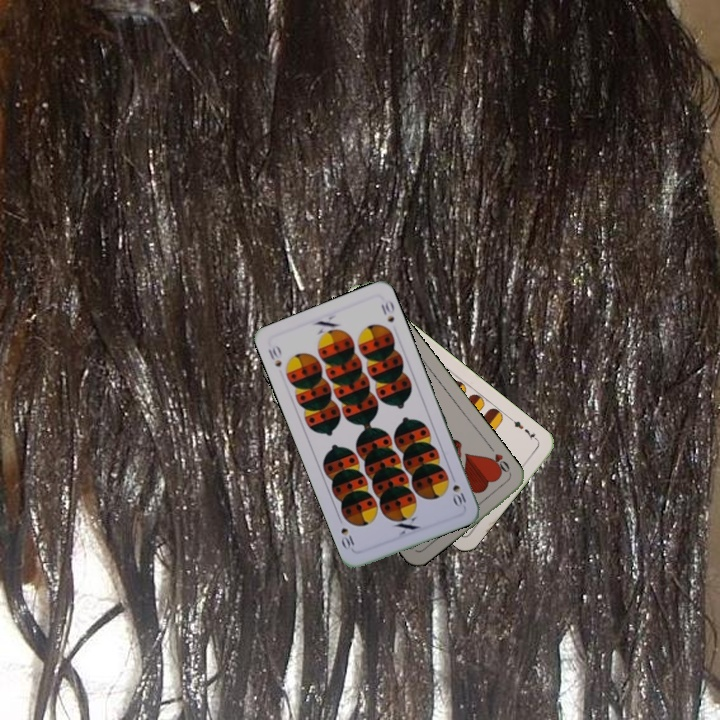E7: (506, 414, 541, 444)
HO: (484, 442, 514, 478)
S10: (448, 480, 469, 510), (264, 341, 285, 370)
